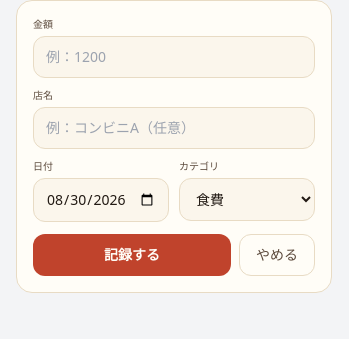
Test: ExpenseForm — validation › refuses a blank amount
The image size is (349, 339).
What coordinates should you click on to do the following:
click the button "記録する"
I would click on:
 (132, 255)
Its box is [33,234,231,276].
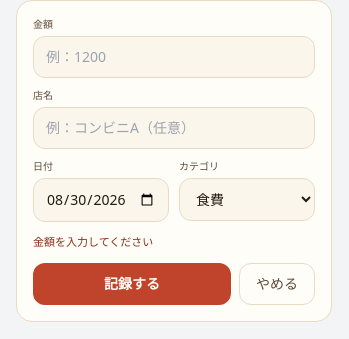
Now the text "金額を入力してください" is shown, box [33,234,153,249]
